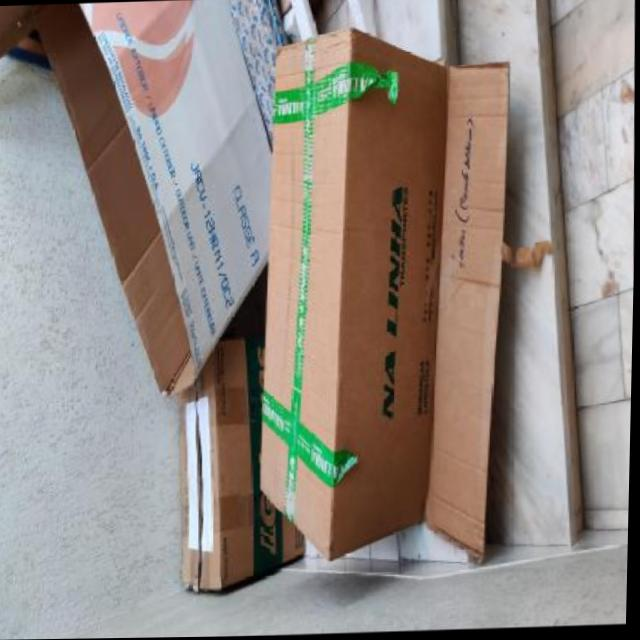cardboard: (244, 26, 521, 570), (22, 0, 305, 406), (172, 322, 312, 595)
